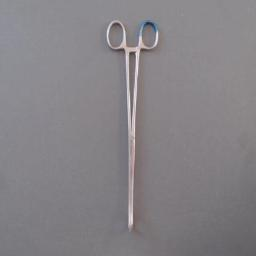Sponge Forceps: (100, 14, 162, 238)
